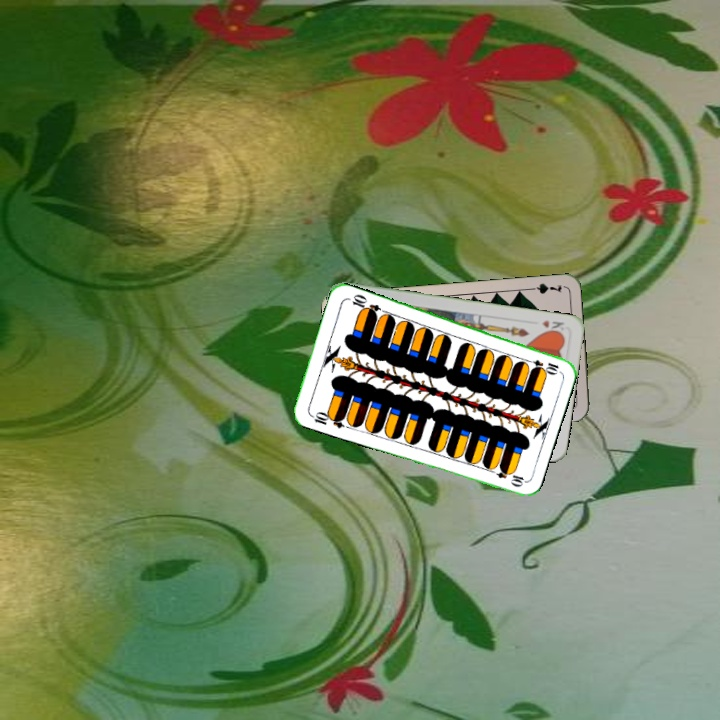E10: (306, 407, 347, 431), (521, 355, 562, 377)
G7: (524, 279, 564, 296)
HK: (538, 316, 566, 336)
